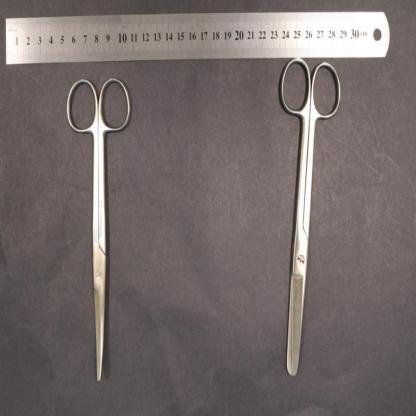Curved Mayo Scissors: (66, 75, 133, 382)
Dressing Scissors: (279, 54, 343, 377)
